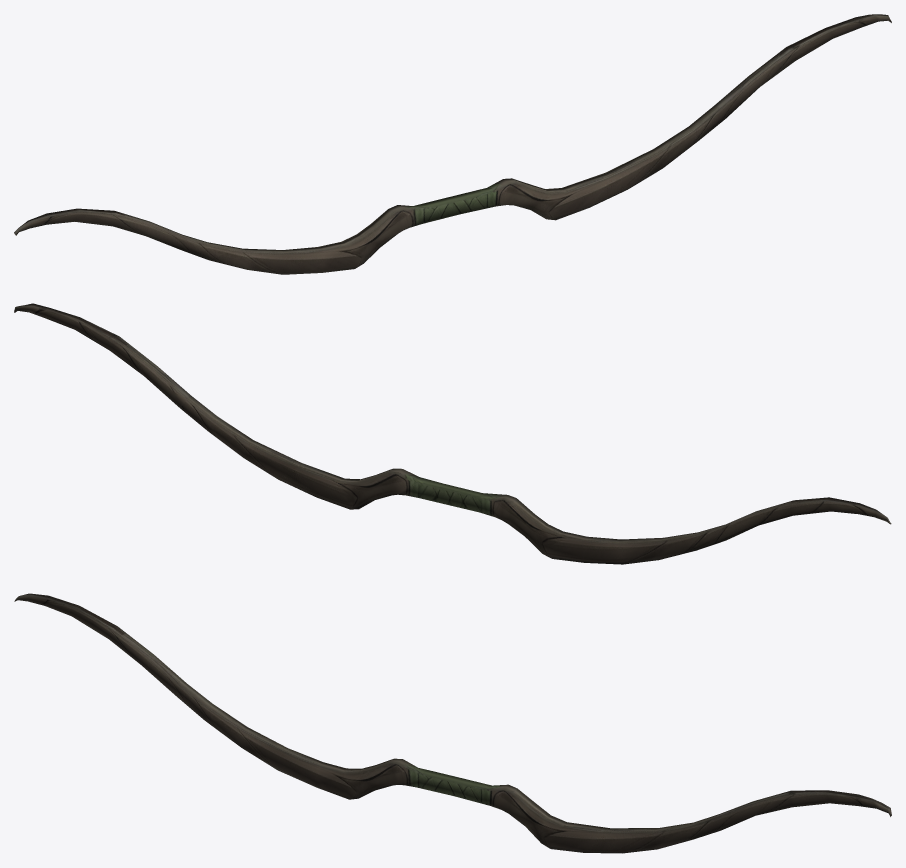
The model's file is archer_longbow.glb.
3 views of the same model, one above another, from view 1: azimuth 30°, elevation 25°; view 2: azimuth 150°, elevation 25°; view 3: azimuth 330°, elevation 25° (orthographic).
Parts seen in each view (by area): view 1: Mesh_0; view 2: Mesh_0; view 3: Mesh_0.
Part boxes in pixels (x1,y1,x2,y2): Mesh_0: (14, 14, 891, 274); Mesh_0: (14, 303, 891, 564); Mesh_0: (14, 593, 891, 853).
Bounding box in the file's own units: 1.55 × 0.2157 × 0.0187.
1 material, 1 textured.
